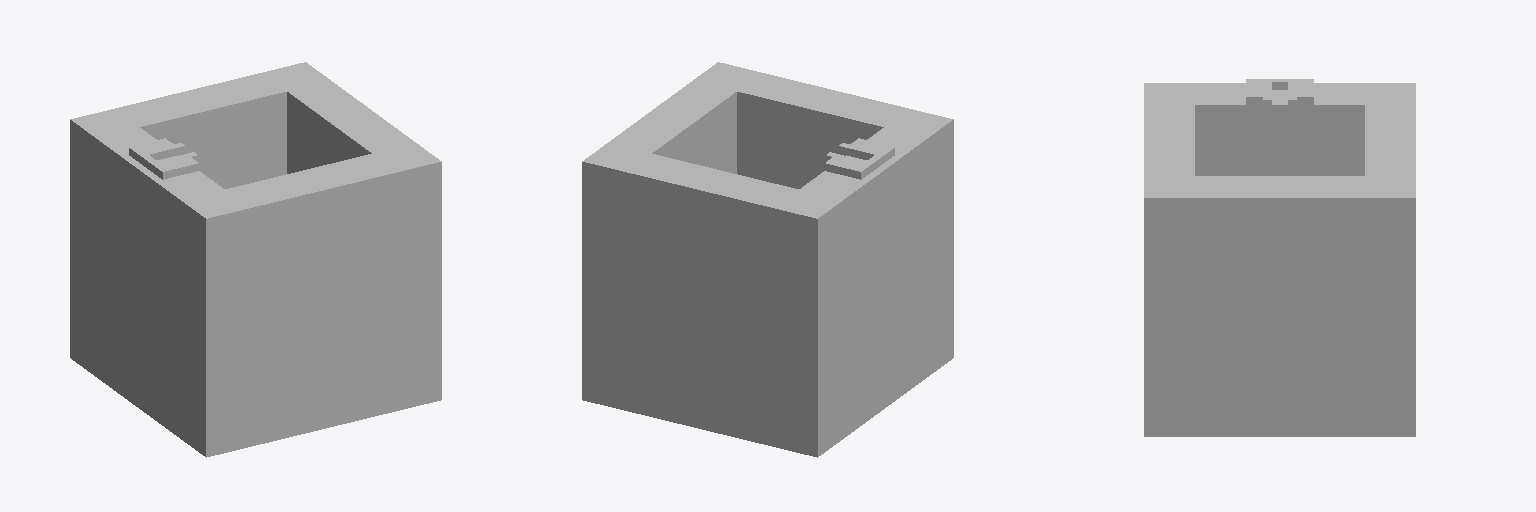
The model's file is hole.obj.
3 renders of one model, left to right at view 1: azimuth 30°, elevation 25°; view 2: azimuth 150°, elevation 25°; view 3: azimuth 270°, elevation 25°, orthographic.
Parts seen in each view (by area): view 1: object 1; view 2: object 1; view 3: object 1.
Part boxes in pixels (bbox=[...]): object 1: bbox=[70, 62, 441, 457]; object 1: bbox=[582, 62, 953, 457]; object 1: bbox=[1144, 79, 1415, 436].
Size of the model in its own units: 3.2 by 3.2 by 3.2.